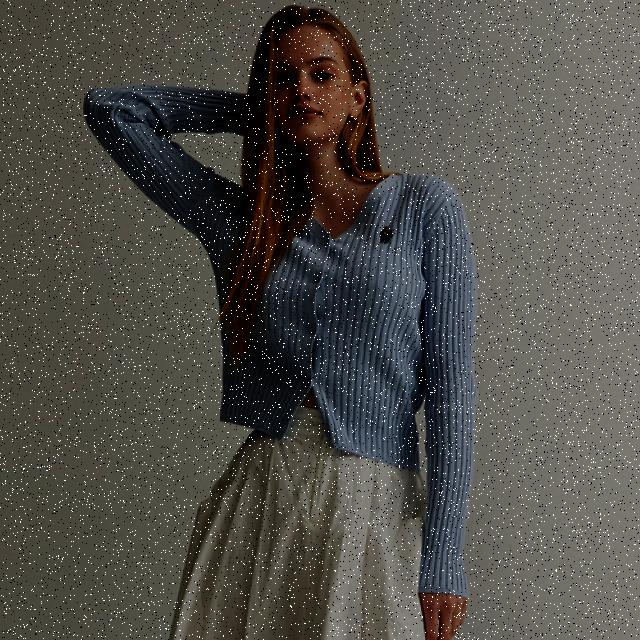dress: (89, 86, 469, 600)
